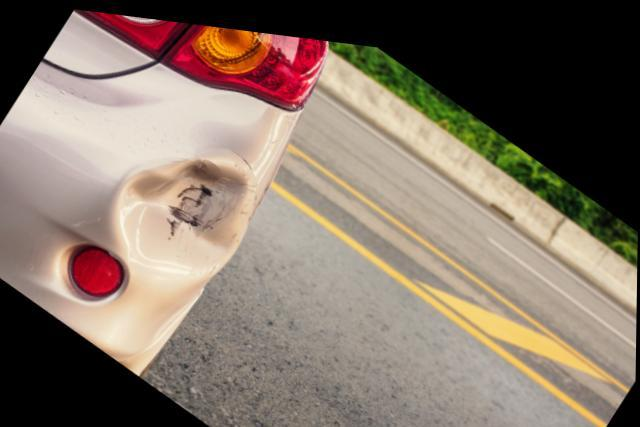dent: (117, 144, 255, 281)
